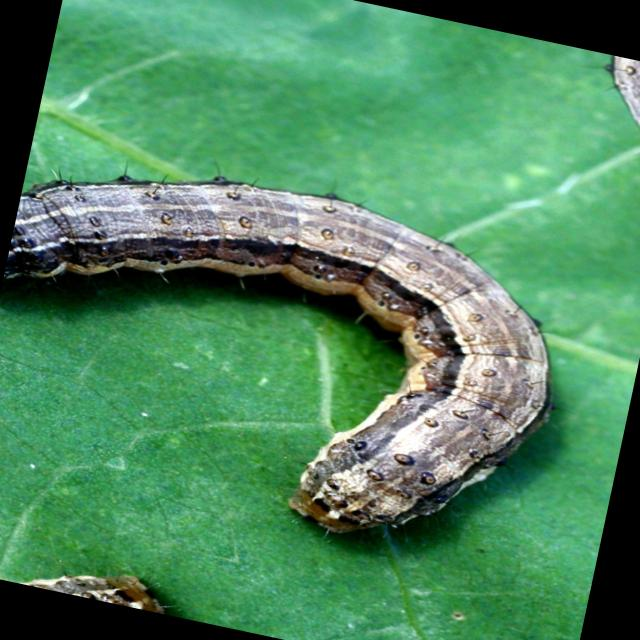Armyworm: (1, 93, 640, 586), (1, 552, 211, 624), (580, 54, 640, 186)
